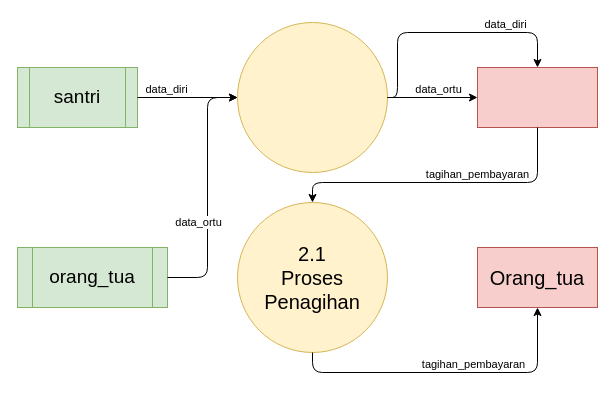
Image size: 615x398. Some labels were removed from this diagram. Each missing label, with the box of its shape:
1.1 Penarikan Data: (236, 22, 388, 172)
Admin: (476, 66, 598, 128)
